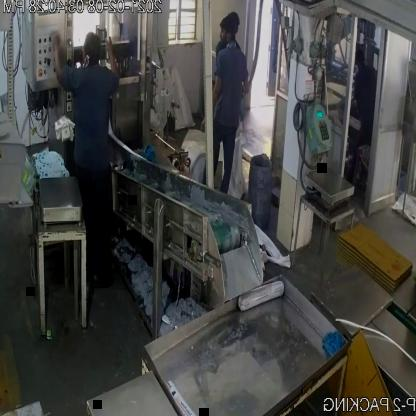no_glove: (49, 25, 72, 88), (108, 33, 126, 88)
